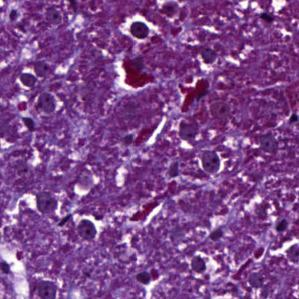inflammation: (119, 10, 154, 46), (28, 188, 61, 220), (195, 147, 231, 176), (193, 47, 222, 74), (74, 215, 101, 243), (188, 254, 219, 278)
